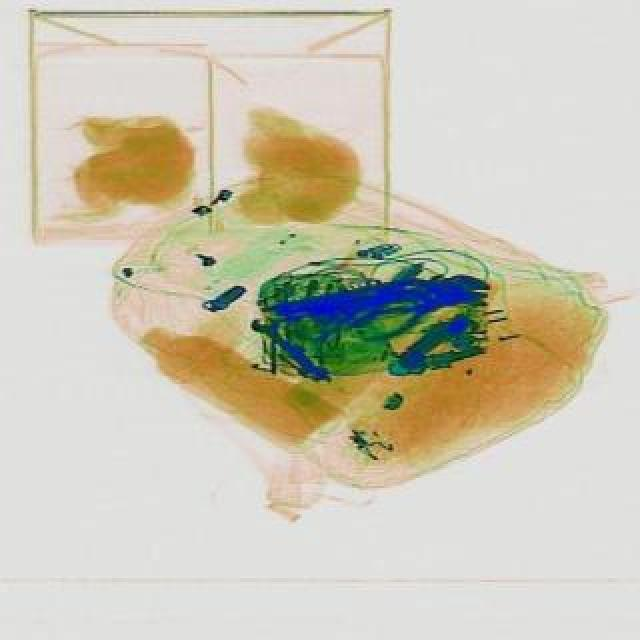scissors: (320, 274, 498, 330), (250, 310, 338, 390)
wrench: (352, 294, 444, 350)
